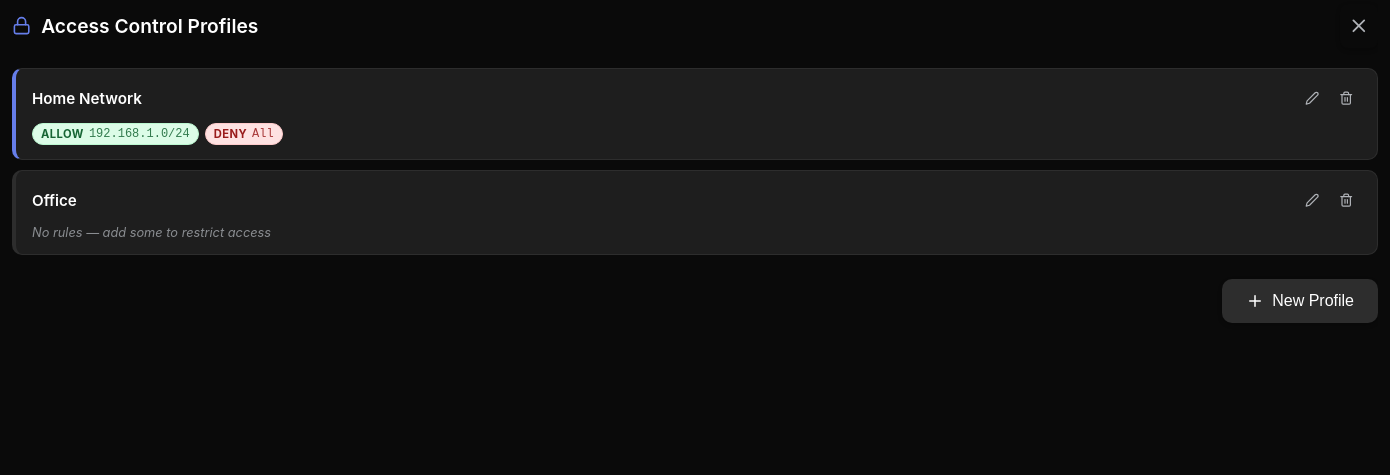
Test case: AclManager — create flow › shows validation error when saving with empty name
Expected: the text "Home Network" is shown, x1=32 y1=88 x2=142 y2=108
Click the button "New Profile": [1300, 301] box x1=1222 y1=279 x2=1378 y2=323
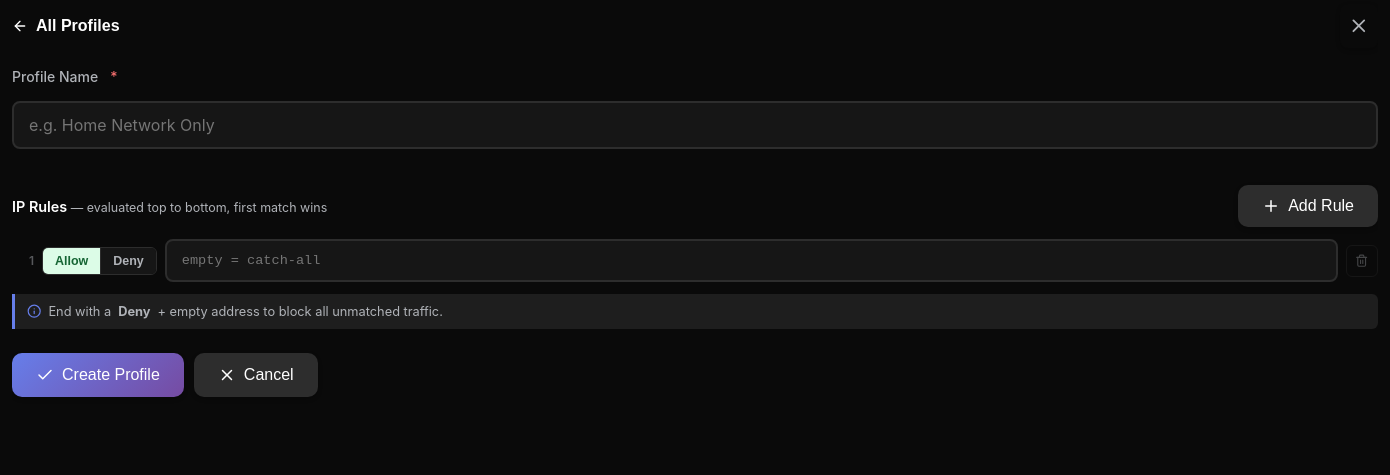
Click the button "Create Profile": [98, 375] box x1=12 y1=353 x2=184 y2=397
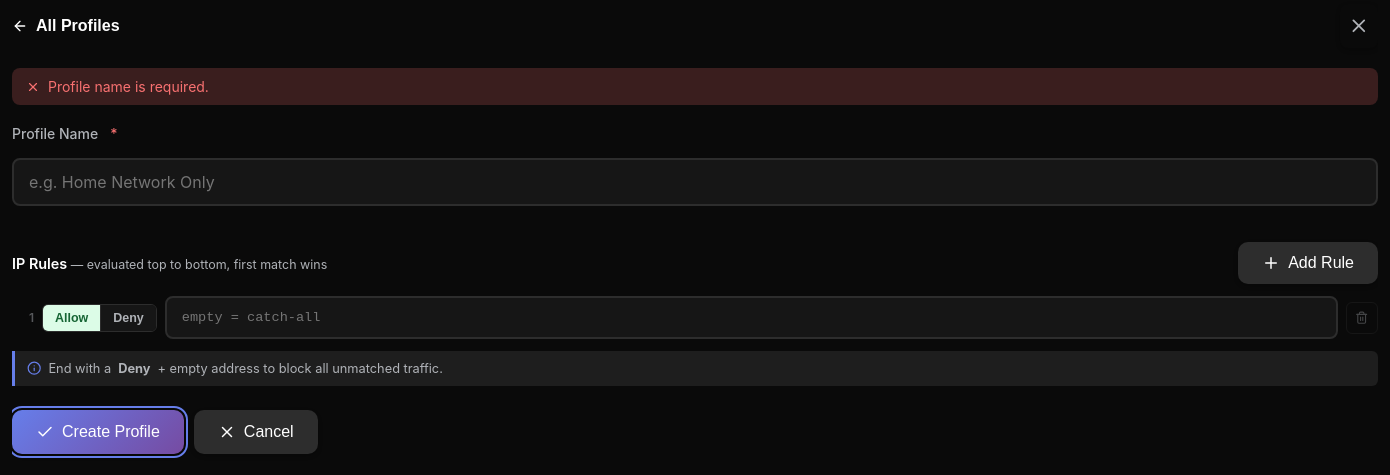
Expected: the message shows "Profile name is required", x1=48 y1=78 x2=209 y2=95
